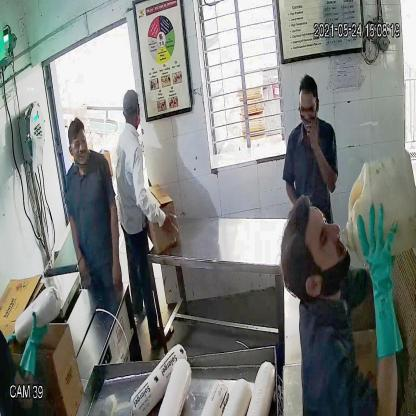goggles: (66, 133, 90, 155), (298, 97, 320, 119)
no_goggles: (315, 204, 334, 292)
